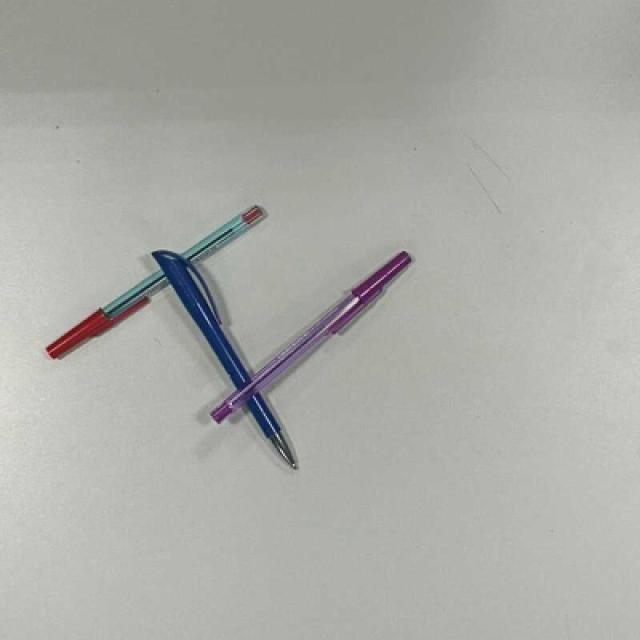caneta: (152, 238, 313, 474), (210, 247, 415, 428), (43, 204, 270, 366)
